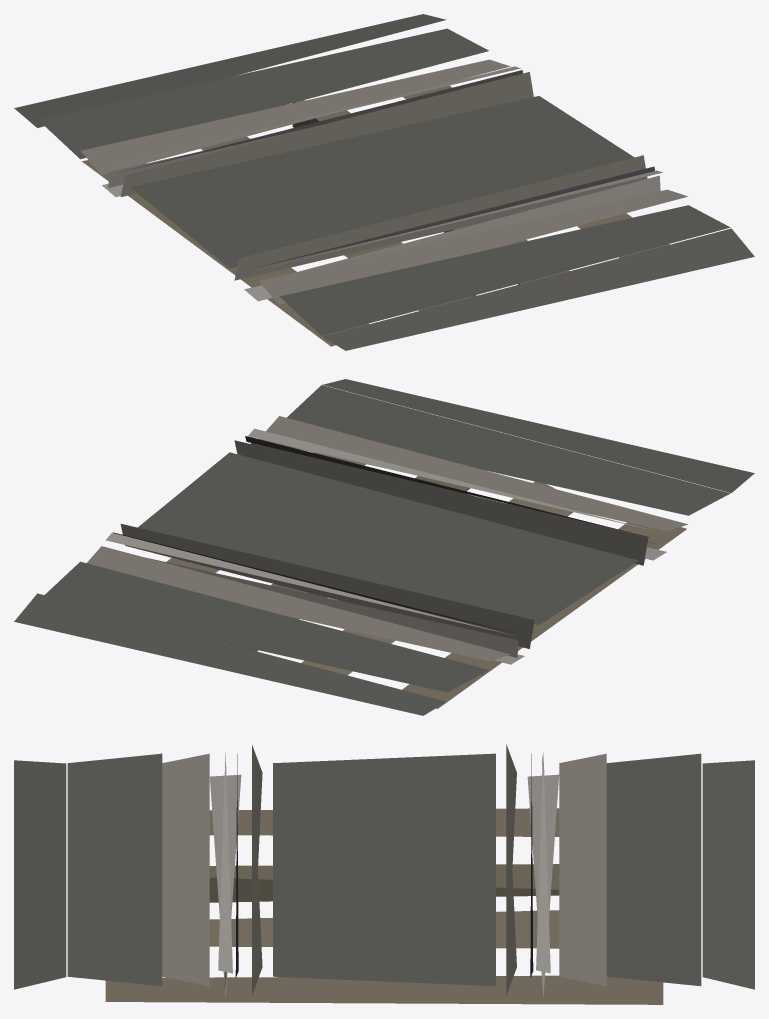
Rendered from rail-street-lod1.glb.
The picture shows the model from 3 angles, top to bottom: view 1: azimuth 30°, elevation 25°; view 2: azimuth 150°, elevation 25°; view 3: azimuth 270°, elevation 25°; orthographic projection. The views are drawn at different scales.
Visible parts, largest first — view 1: rail-street.001; view 2: rail-street.001; view 3: rail-street.001.
Part boxes in pixels (bbox=[...]): rail-street.001: bbox=[14, 14, 754, 350]; rail-street.001: bbox=[14, 379, 754, 715]; rail-street.001: bbox=[14, 744, 754, 1004].
Bounding box in the file's own units: 2.5 × 0.3444 × 3.51.
